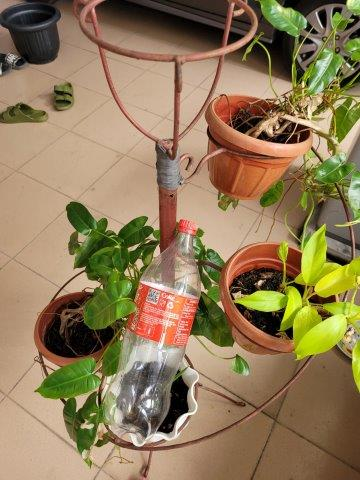botolplastik: (108, 225, 199, 434)
